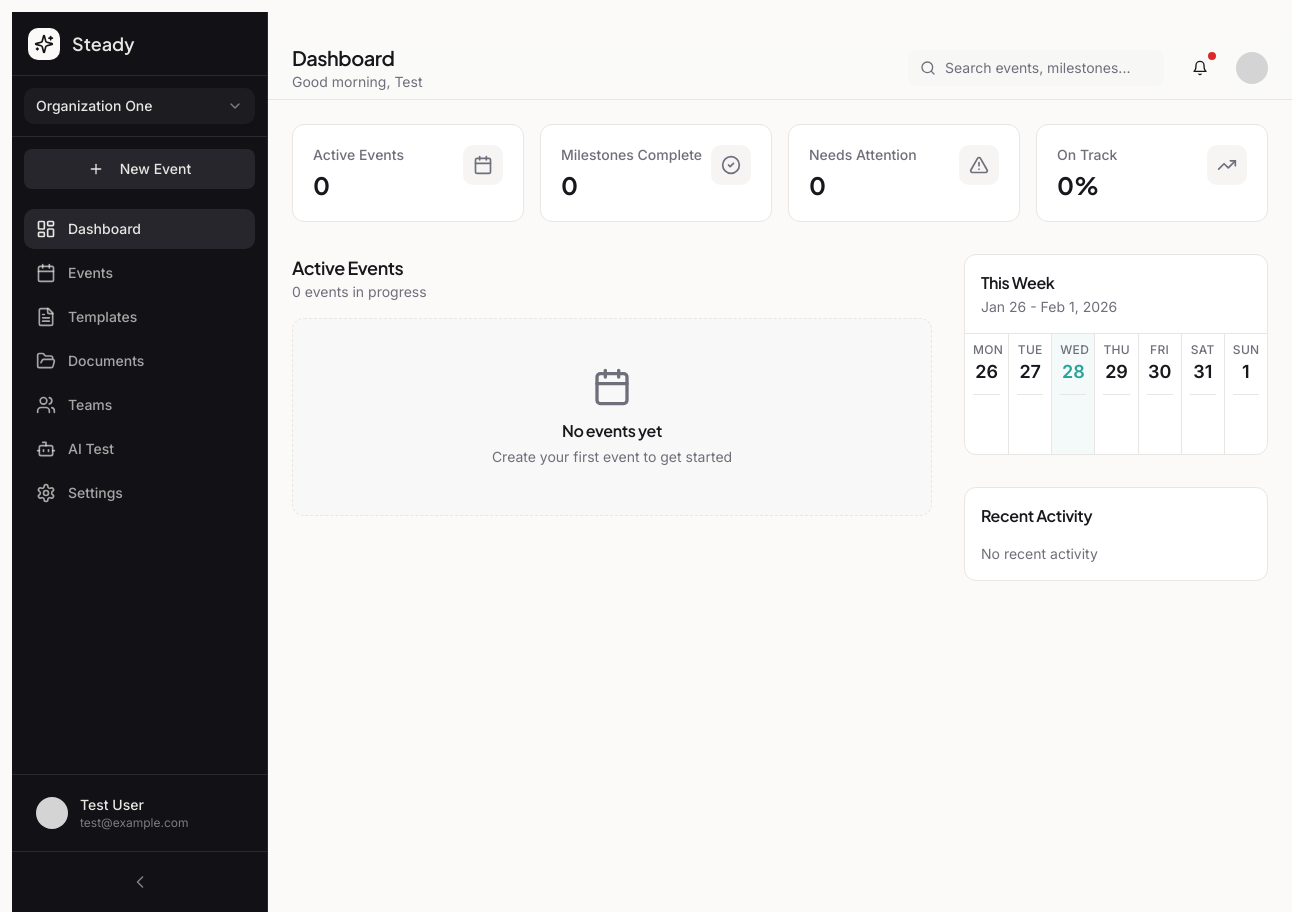
Test case: Organization Switching › Organization Switcher Dropdown › shows all organizations in the dropdown
Expected: the text "Organization One" is shown, [36,96,152,116]
Click the button "Organization One": [140, 106] box [24,88,255,124]
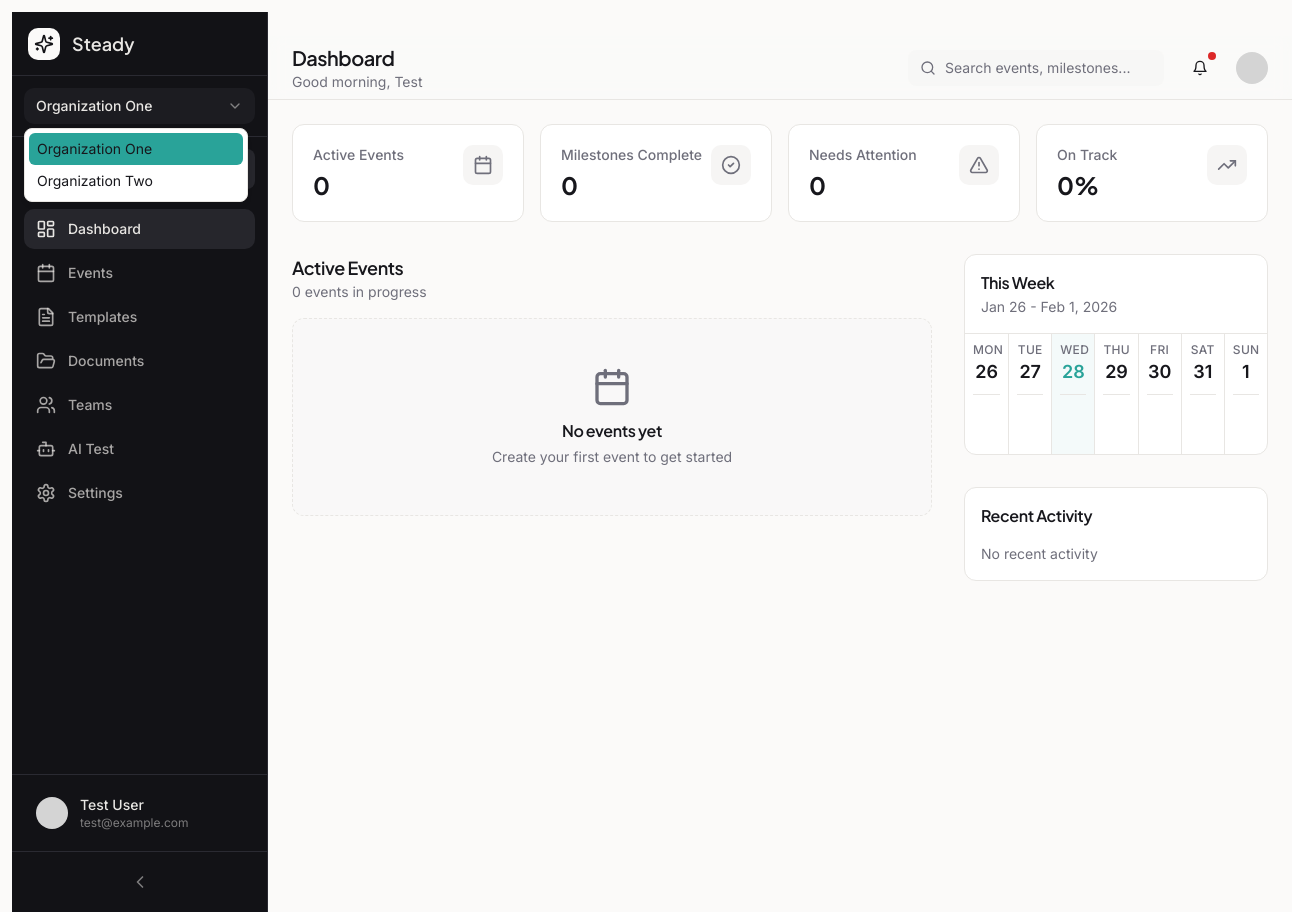
Now the number of menu items is 2, box [29,133,243,165]; [37,172,153,189]
